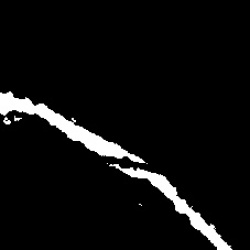crack: (0, 91, 146, 163), (110, 164, 231, 248)
